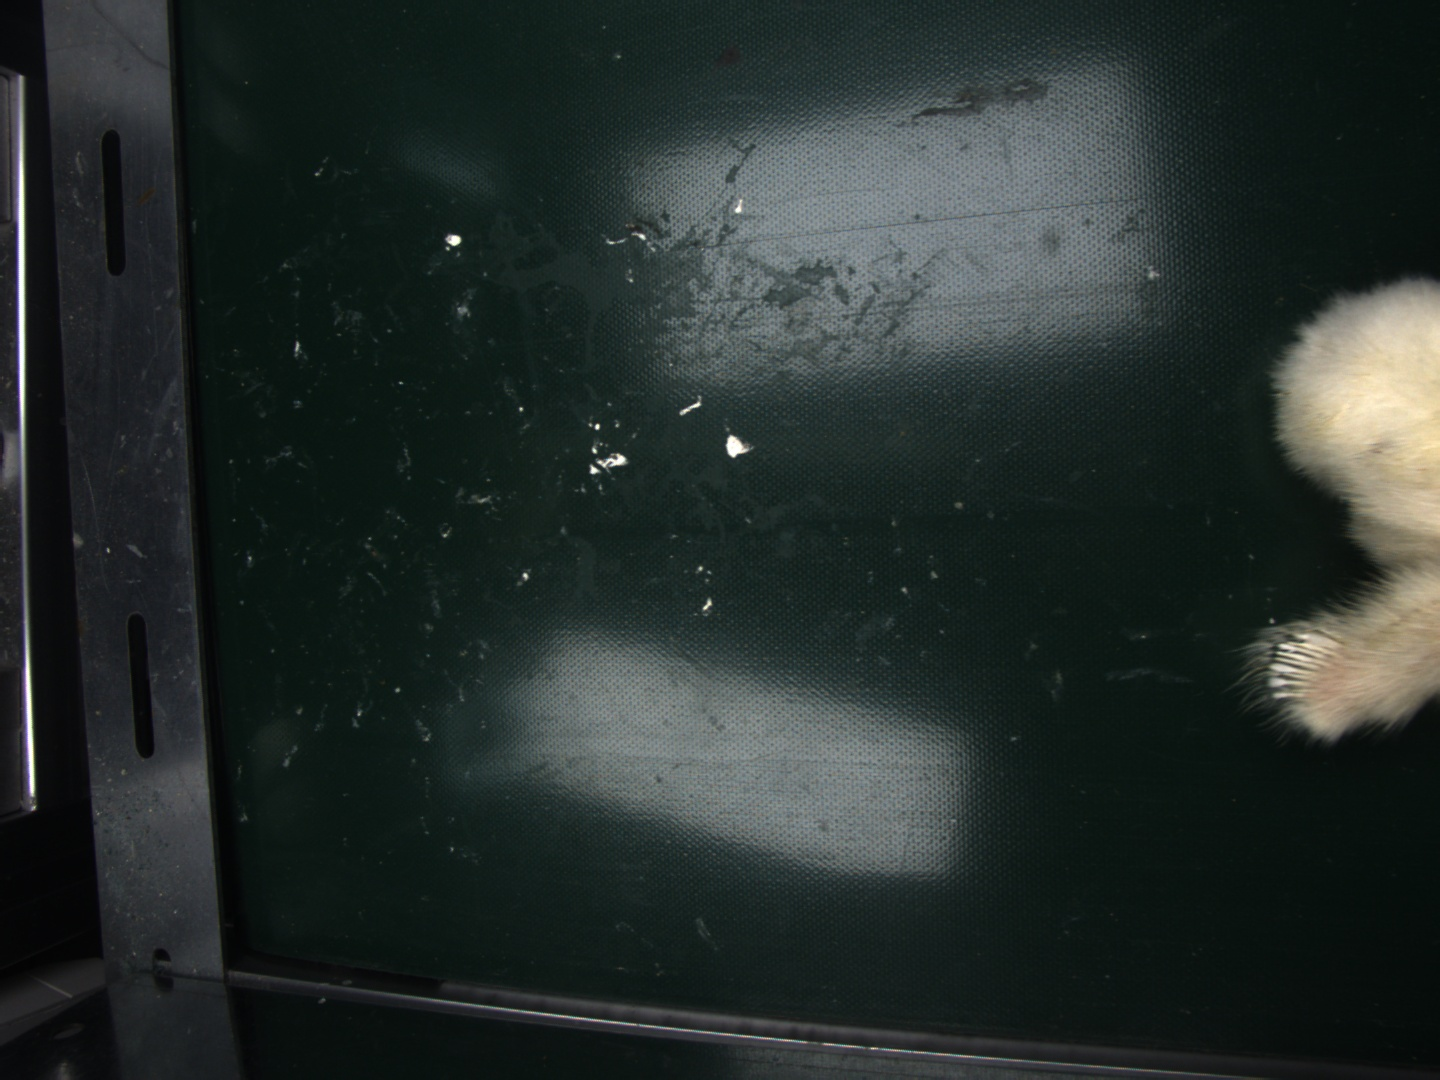male: (1264, 631, 1336, 704)
